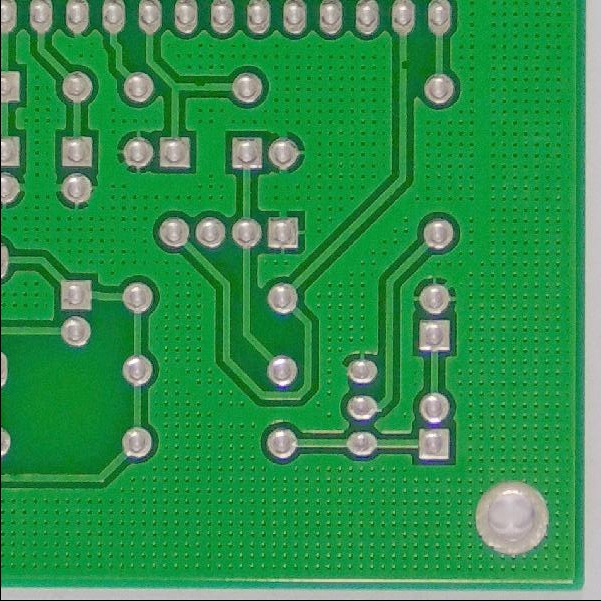mouse_bite: (391, 54, 412, 78), (188, 77, 211, 96)
